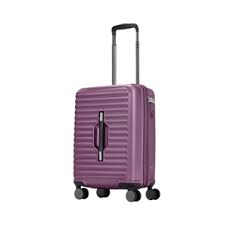suitcase: (70, 20, 160, 204)
